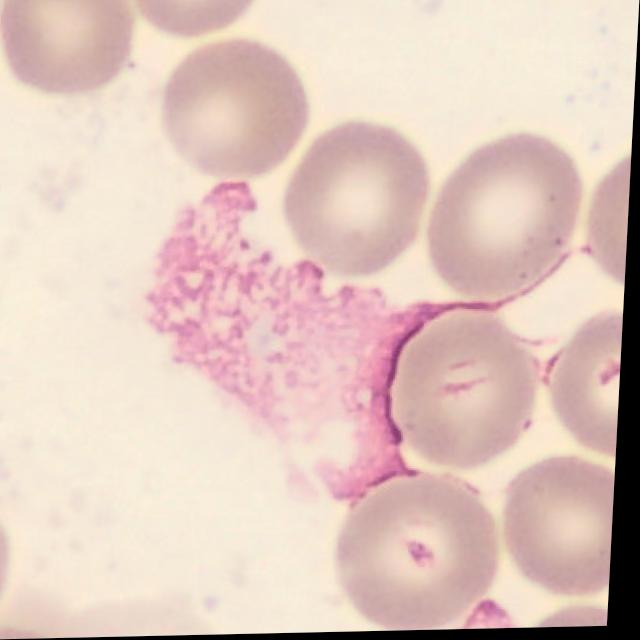Artefato: (150, 184, 466, 502)
